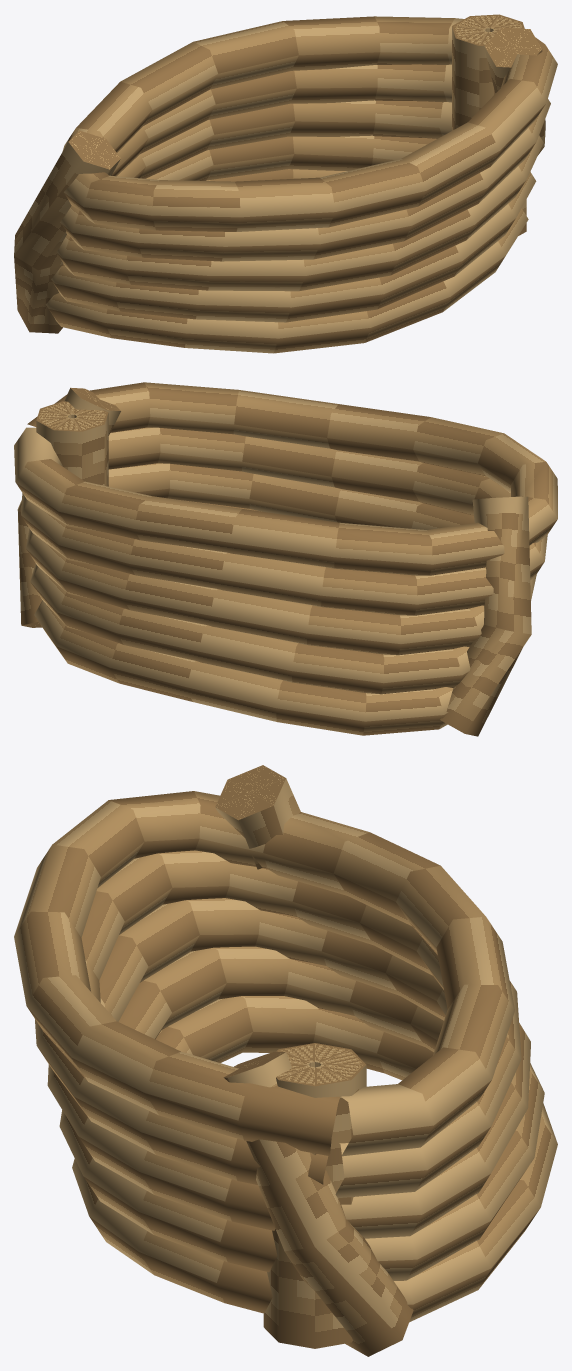
File: INV_RopeBundle.glb
The picture shows the model from 3 angles, top to bottom: view 1: azimuth 30°, elevation 25°; view 2: azimuth 150°, elevation 25°; view 3: azimuth 270°, elevation 25°; orthographic projection. The views are drawn at different scales.
Visible parts, largest first — view 1: INV_RopeBundle_Mesh; view 2: INV_RopeBundle_Mesh; view 3: INV_RopeBundle_Mesh.
Boxes of the visible parts, left/top/right/bottom form: INV_RopeBundle_Mesh: left=14, top=14, right=557, bottom=353; INV_RopeBundle_Mesh: left=14, top=382, right=557, bottom=736; INV_RopeBundle_Mesh: left=14, top=765, right=557, bottom=1356.
Size of what is drawn, in the model's own units: 0.254 by 0.1002 by 0.169.
Materials: 1 (1 with a texture image).
